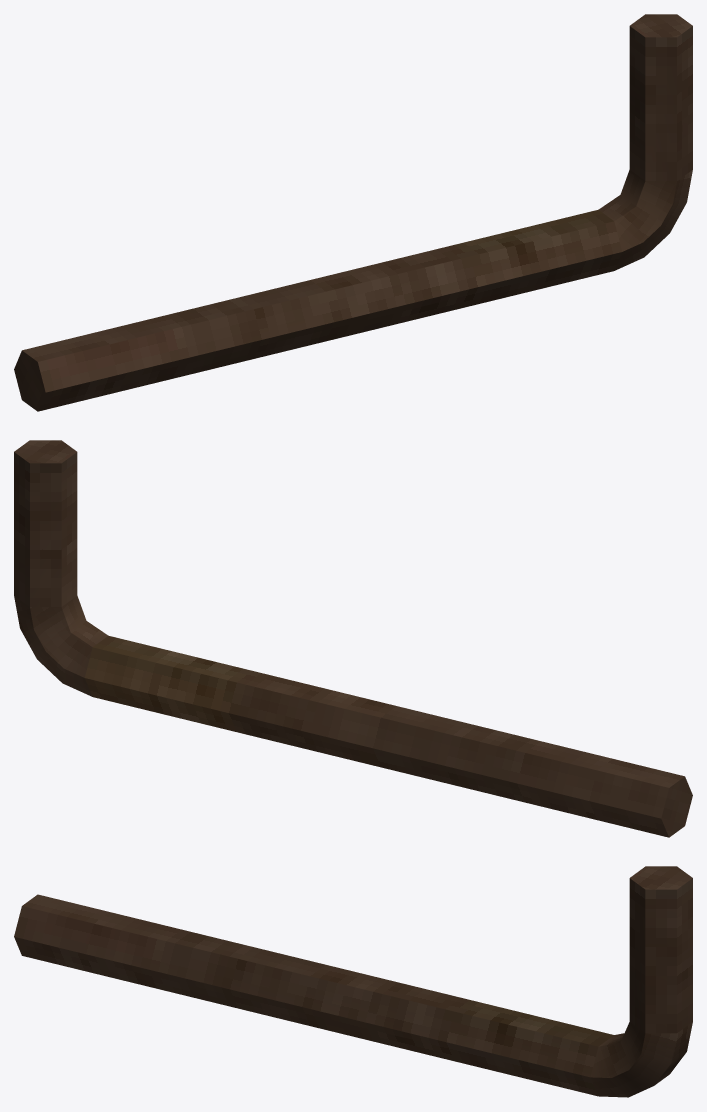
File: shop-item-1019.glb
3 renders of one model, top to bottom at view 1: azimuth 30°, elevation 25°; view 2: azimuth 150°, elevation 25°; view 3: azimuth 330°, elevation 25°, orthographic.
Visible parts, largest first — view 1: allen_key_mx_1; view 2: allen_key_mx_1; view 3: allen_key_mx_1.
Boxes of the visible parts, bbox=[...] form: allen_key_mx_1: bbox=[14, 14, 692, 411]; allen_key_mx_1: bbox=[14, 440, 692, 837]; allen_key_mx_1: bbox=[14, 866, 692, 1097].
Bounding box in the file's own units: 0.2387 × 0.0787 × 0.02.
Materials: 1 (1 with a texture image).
